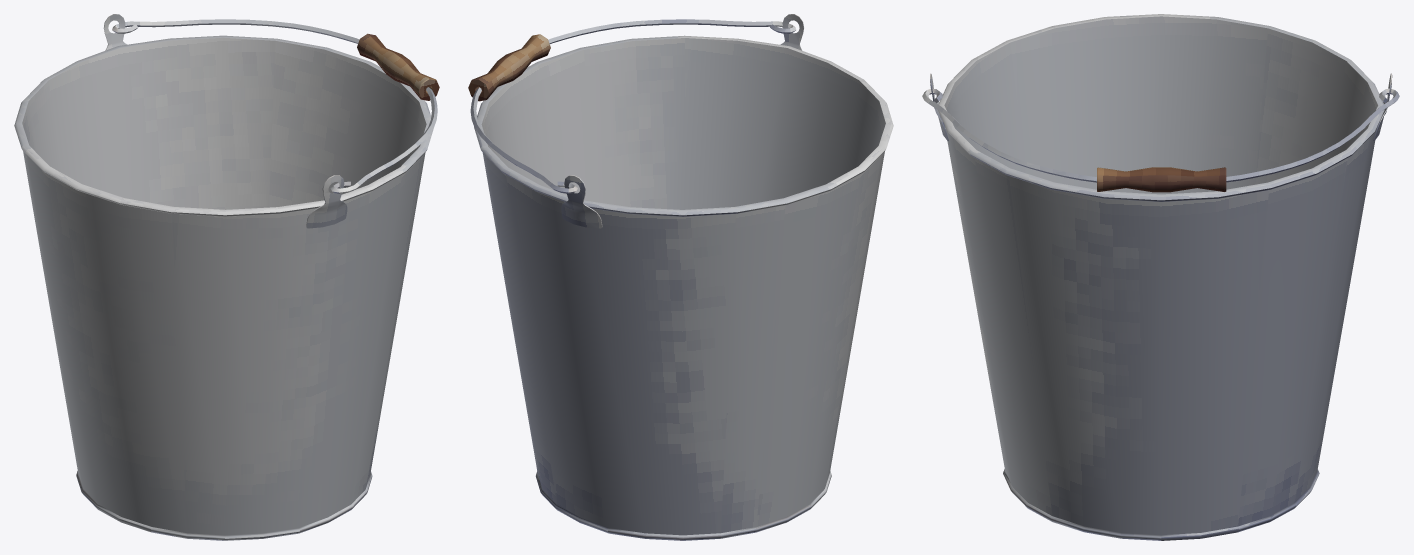
The model's file is bucket.glb.
3 views of the same model, side by side, from view 1: azimuth 30°, elevation 25°; view 2: azimuth 150°, elevation 25°; view 3: azimuth 270°, elevation 25° (orthographic). The views are drawn at different scales.
Parts seen in each view (by area): view 1: mesh; view 2: mesh; view 3: mesh.
Part boxes in pixels (box(x1,y1,x2,y2)): mesh: box(14, 14, 439, 540); mesh: box(468, 14, 893, 540); mesh: box(922, 14, 1399, 540).
Size of the model in its own units: 0.2863 by 0.287 by 0.3093.
1 material, 1 textured.
